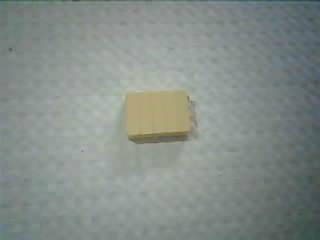lego: (121, 90, 195, 142)
